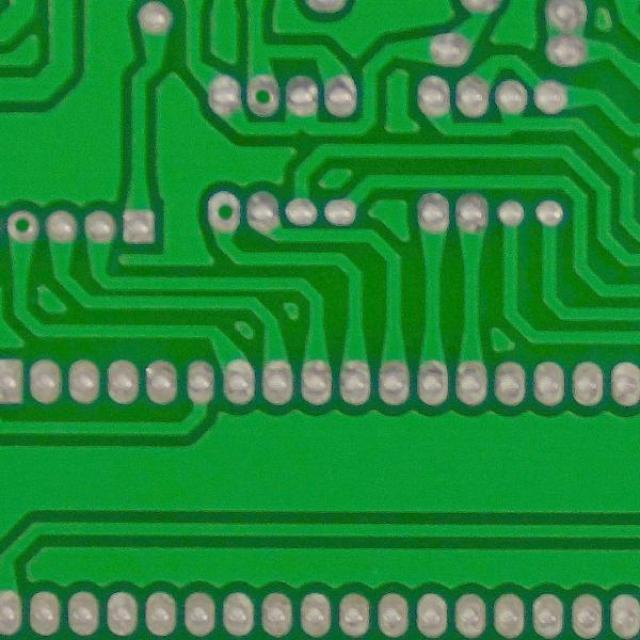Missing_Hole: (200, 188, 246, 234), (241, 73, 286, 119), (1, 208, 43, 245)
